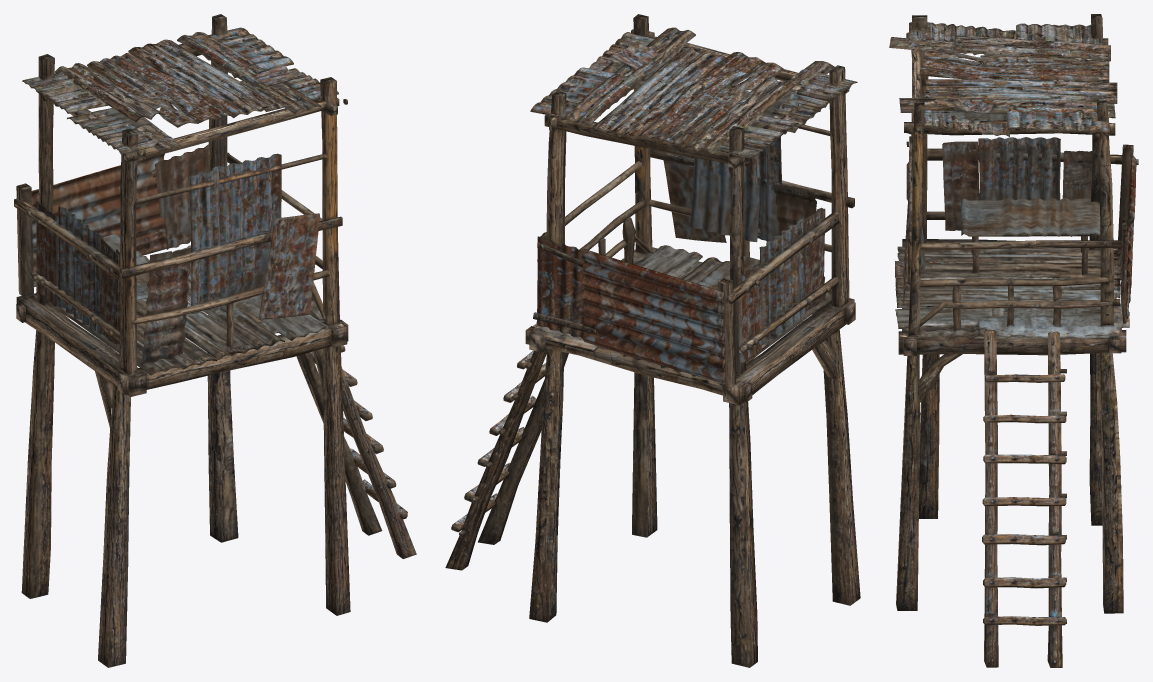
The picture shows the model from 3 angles, left to right: view 1: azimuth 30°, elevation 25°; view 2: azimuth 150°, elevation 25°; view 3: azimuth 270°, elevation 25°; orthographic projection. The views are drawn at different scales.
Visible parts, largest first — view 1: tripo_7a1d1d7c_6d81_49ff_95be_88991f1ef8d5; view 2: tripo_7a1d1d7c_6d81_49ff_95be_88991f1ef8d5; view 3: tripo_7a1d1d7c_6d81_49ff_95be_88991f1ef8d5.
Part boxes in pixels (x1,y1,x2,y2): tripo_7a1d1d7c_6d81_49ff_95be_88991f1ef8d5: (14, 14, 416, 667); tripo_7a1d1d7c_6d81_49ff_95be_88991f1ef8d5: (445, 14, 860, 667); tripo_7a1d1d7c_6d81_49ff_95be_88991f1ef8d5: (889, 14, 1138, 667).
Bounding box in the file's own units: 0.6733 × 0.9995 × 0.4429.
1 material, 1 textured.
